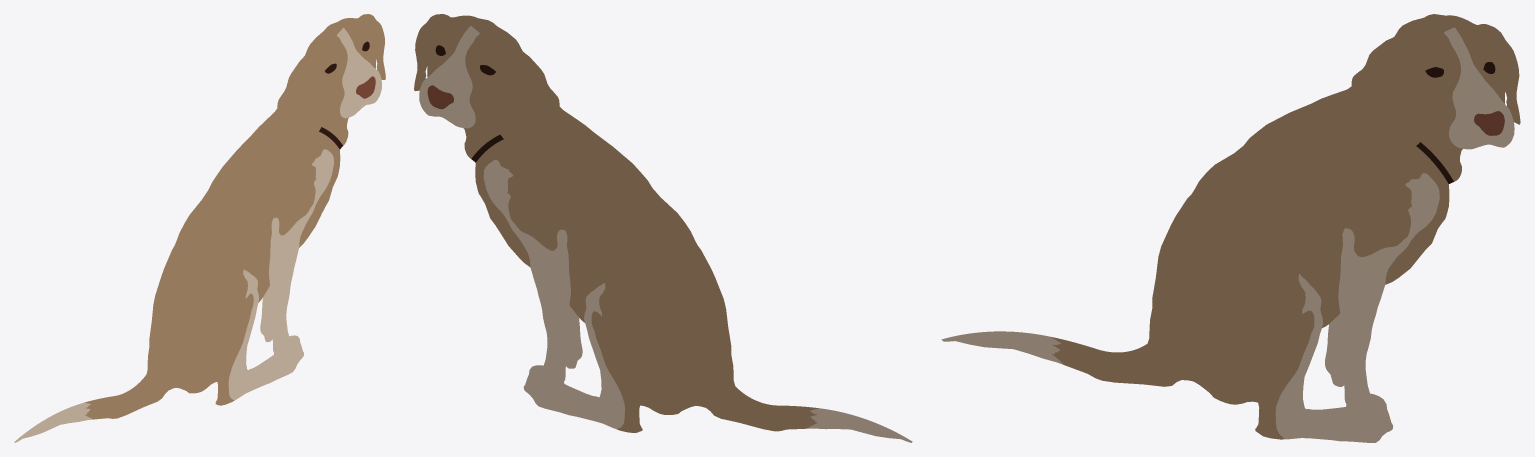
Rendered from perro.dae.
The picture shows the model from 3 angles, left to right: view 1: azimuth 30°, elevation 25°; view 2: azimuth 150°, elevation 25°; view 3: azimuth 330°, elevation 25°; orthographic projection. The views are drawn at different scales.
Parts seen in each view (by area): view 1: SketchUp (×4); view 2: SketchUp (×4); view 3: SketchUp (×5).
Boxes of the visible parts, bbox=[...] form: SketchUp (×4): bbox=[14, 14, 385, 442]; SketchUp (×4): bbox=[414, 14, 912, 442]; SketchUp (×5): bbox=[941, 14, 1520, 442].
Size of the model in its own units: 28.16 by 4.22 by 22.88.
